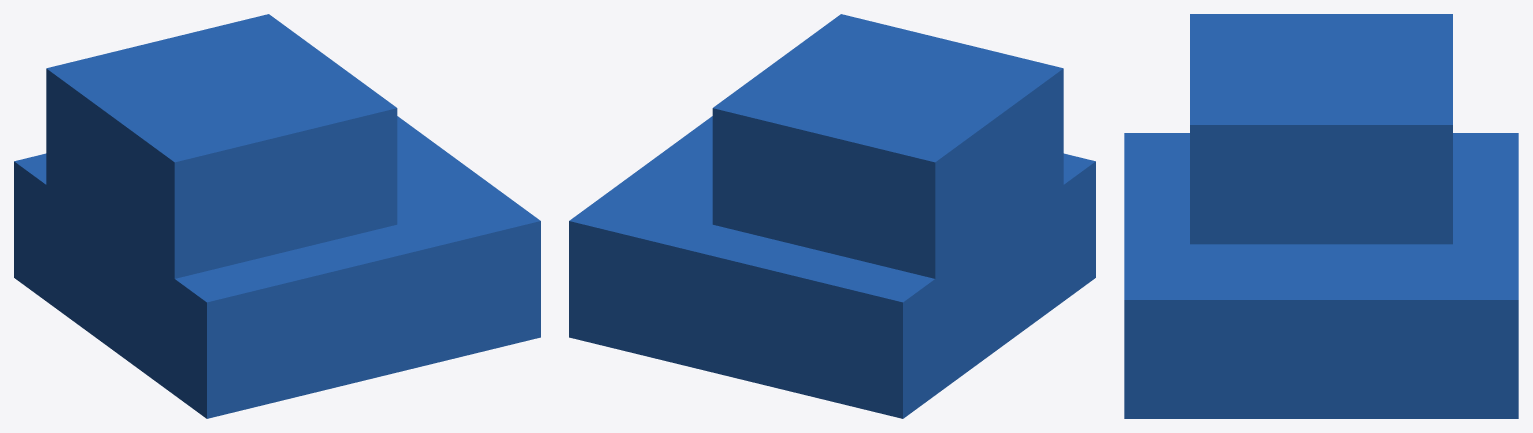
The model's file is diamond-fragment.obj.
The picture shows the model from 3 angles, left to right: view 1: azimuth 30°, elevation 25°; view 2: azimuth 150°, elevation 25°; view 3: azimuth 270°, elevation 25°; orthographic projection. The views are drawn at different scales.
Bounding box in the file's own units: 3 × 2 × 3.
1 material, 1 textured.
